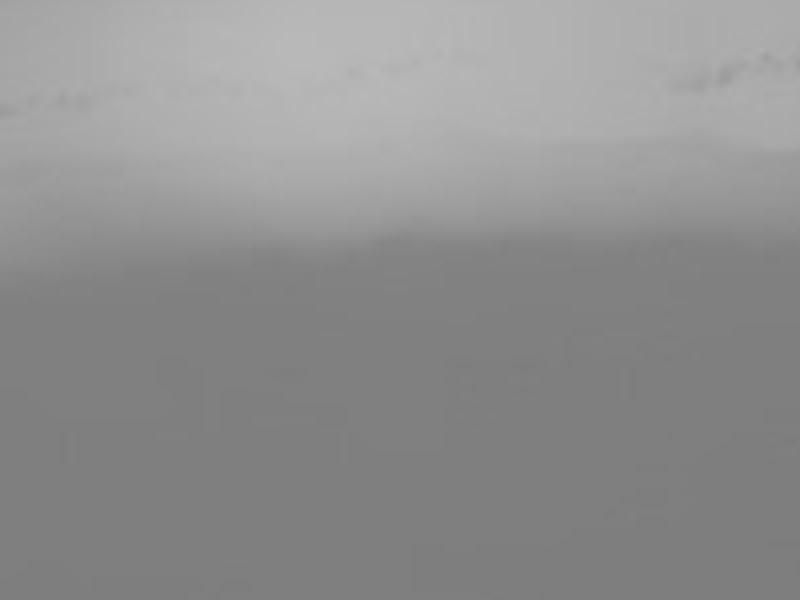defect: (713, 65, 740, 88), (688, 72, 707, 92), (760, 47, 783, 63)
